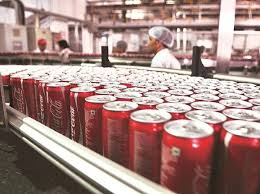coke-can: (160, 125, 216, 191), (219, 122, 259, 192), (128, 109, 162, 182), (44, 83, 69, 134), (68, 90, 84, 143), (10, 76, 25, 111)
